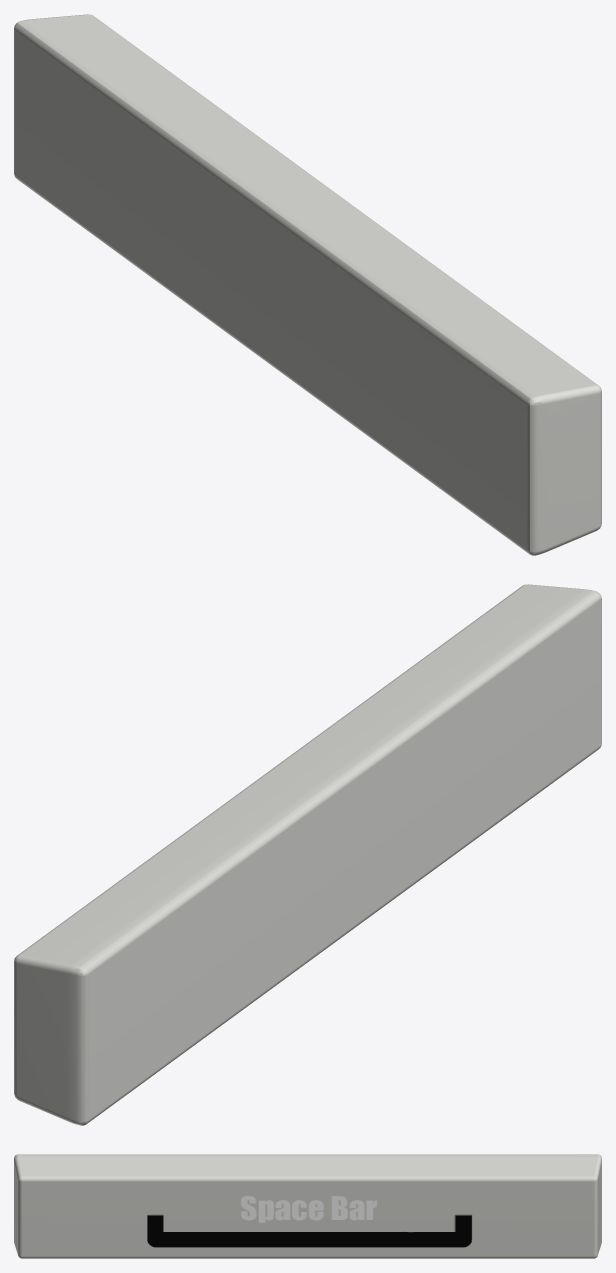
Rendered from HSBC Entorno_10_CAPAS_Tecla Spacebar.fbx.
The picture shows the model from 3 angles, top to bottom: view 1: azimuth 30°, elevation 25°; view 2: azimuth 150°, elevation 25°; view 3: azimuth 270°, elevation 25°; orthographic projection. The views are drawn at different scales.
Parts seen in each view (by area): view 1: spacebar; view 2: spacebar; view 3: spacebar.
Part boxes in pixels (x1,y1,x2,y2): spacebar: (14, 14, 601, 555); spacebar: (14, 584, 601, 1125); spacebar: (14, 1154, 601, 1258).
Size of the model in its own units: 71.91 by 140 by 835.
